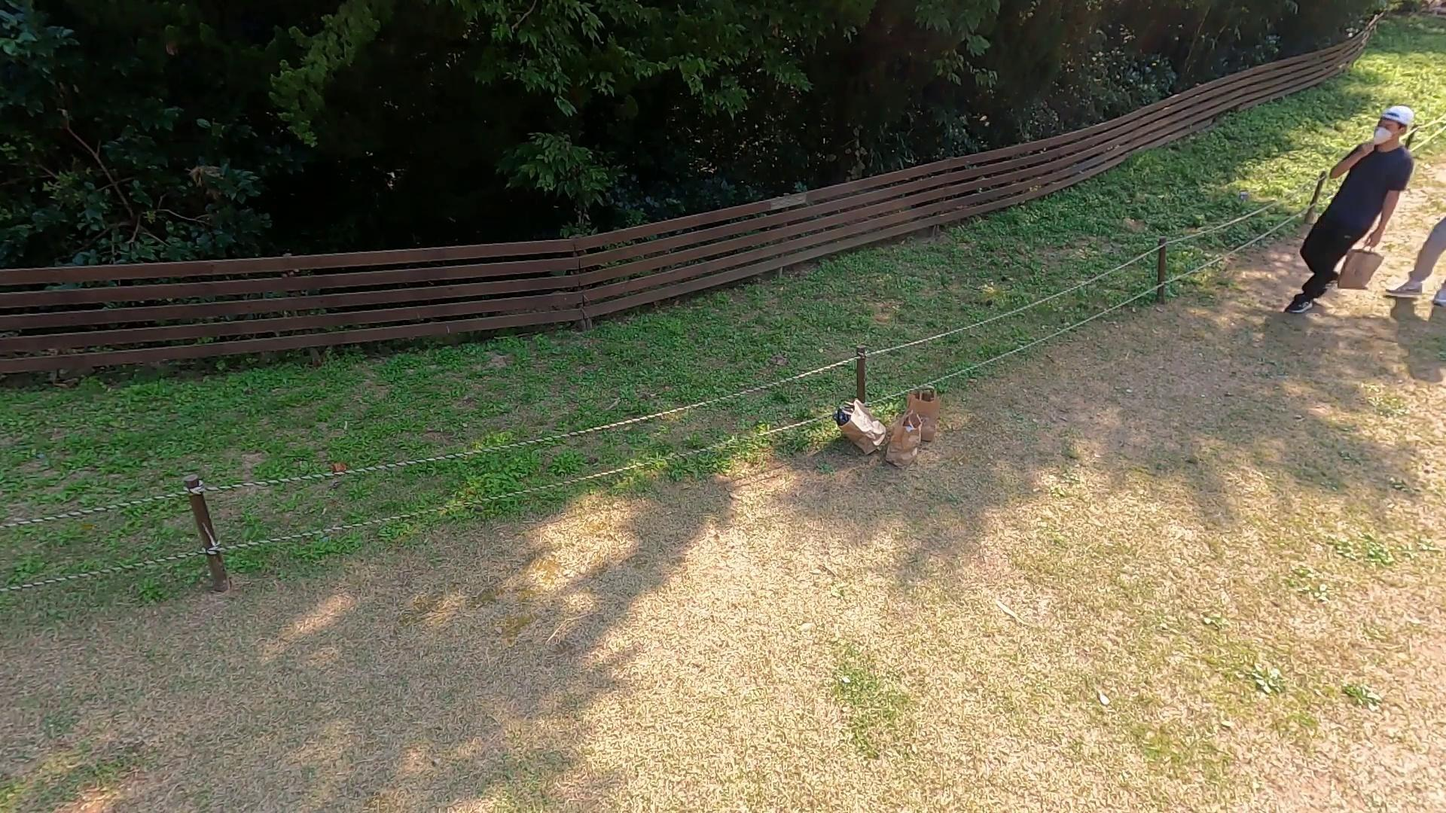person: (1285, 105, 1412, 315), (1386, 212, 1446, 312)
trash: (835, 398, 886, 453), (1337, 241, 1384, 293), (887, 411, 925, 468), (908, 388, 938, 441)
